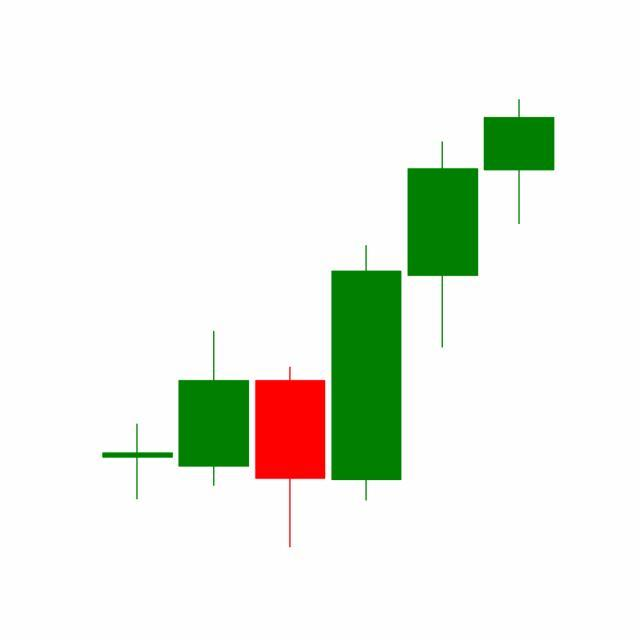Three Outside Up-Down: (252, 137, 482, 548)
